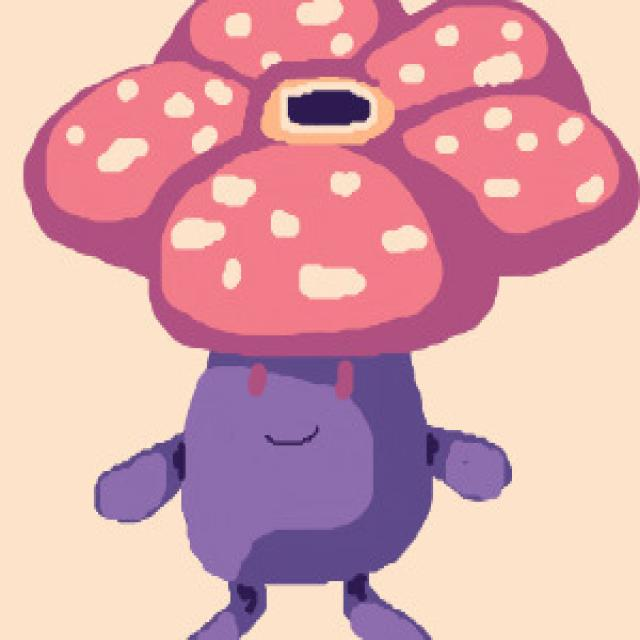Vileplume: (108, 3, 514, 640)
